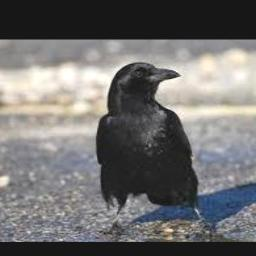Crow: (97, 62, 207, 235)
